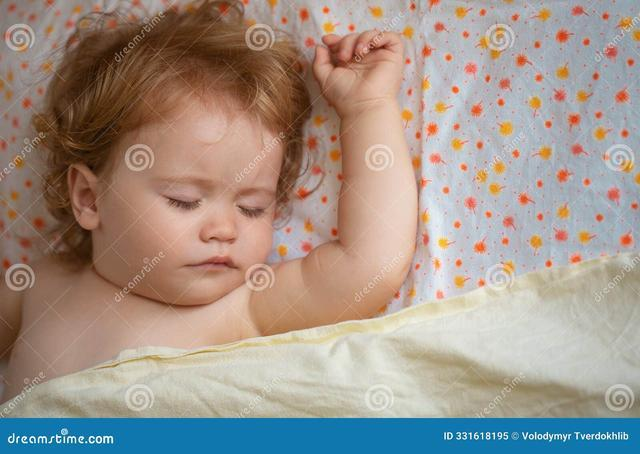sleep: (90, 88, 284, 306)
